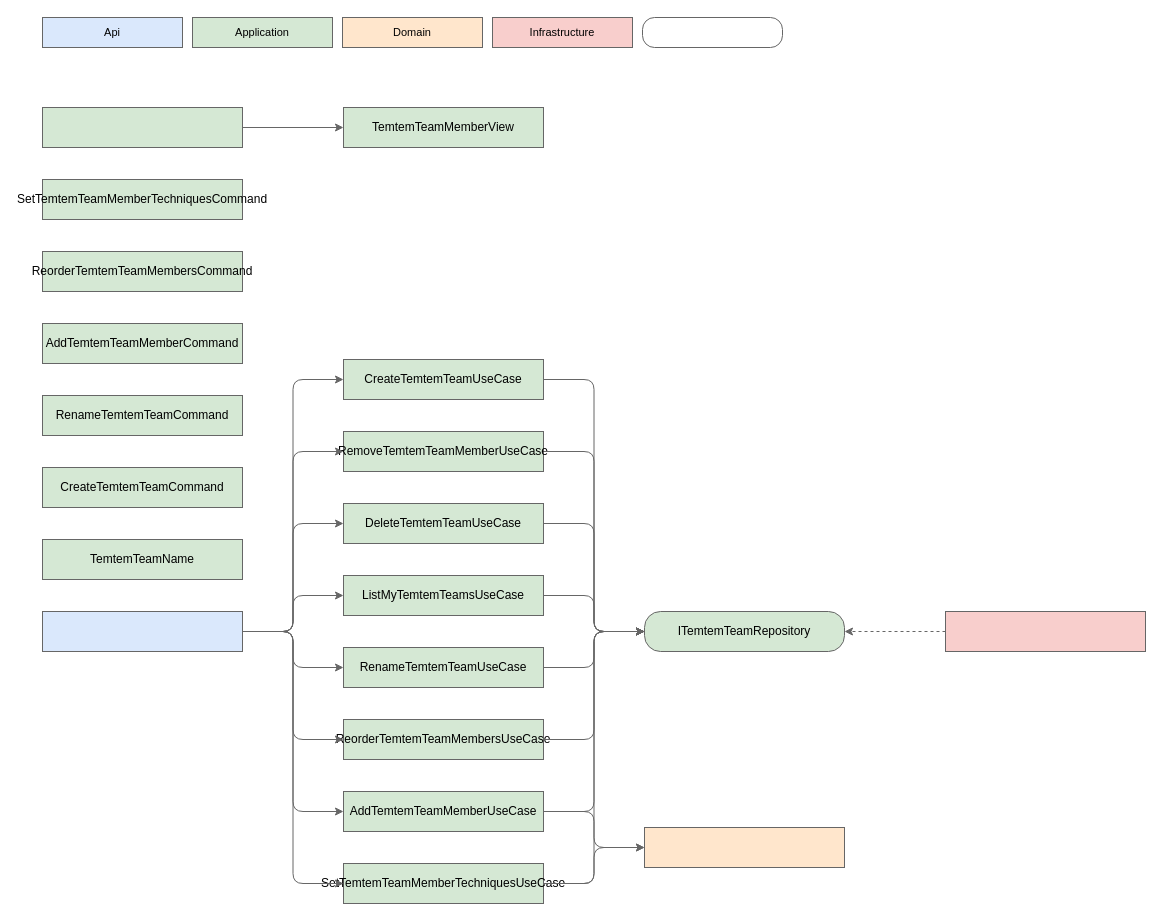
This 1163x921 diagram has some shape labels left out. Each missing label, with the box of its shape:
Port (interface): (642, 16, 782, 48)
PostgresTemtemTeamRepository: (944, 610, 1146, 652)
TeamRoster: (644, 826, 844, 868)
TemtemTeamsController: (42, 610, 242, 652)
TemtemTeamView: (42, 106, 242, 148)
